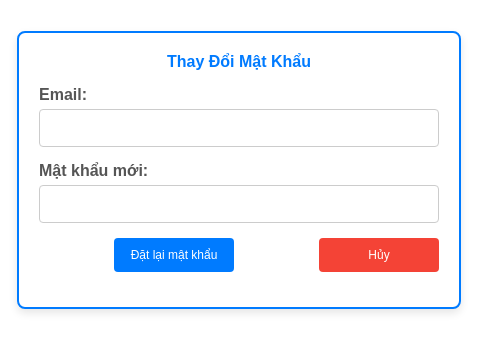
Test case: ResetPasswordForm › displays error message on failed reset
The width and height of the screenshot is (479, 346).
Type "fail@example.com" into the field labelled "Email:".
click(239, 128); type("fail@example.com")  # box [39,109,439,147]
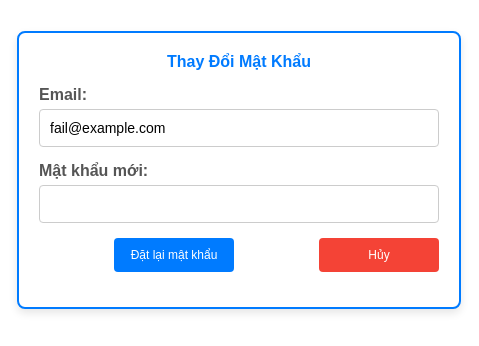
Type "123456" into the password field labelled "Mật khẩu mới:".
click(239, 204); type("123456")  # box [39,185,439,223]
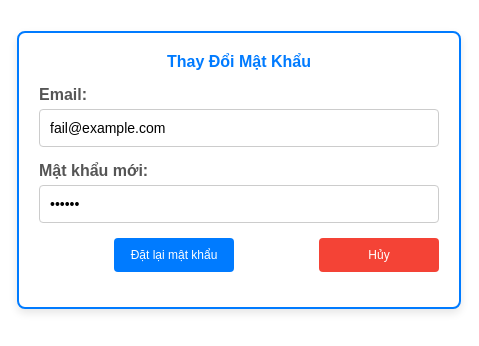
Click the button "Đặt lại mật khẩu".
click(174, 255)  # box [114,238,234,272]
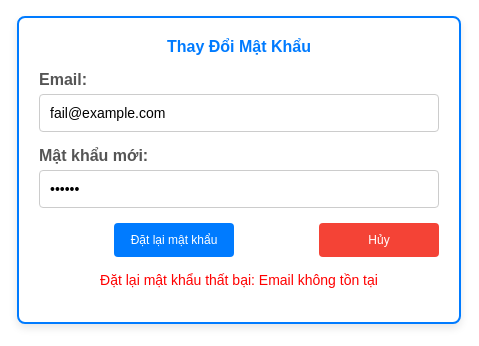
Check: the text "Đặt lại mật khẩu thất bại: Email không tồn tại" is shown, box [100,272,378,288]
